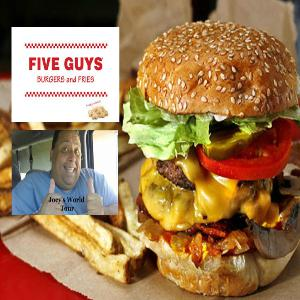cheeseburger: (133, 13, 300, 292)
